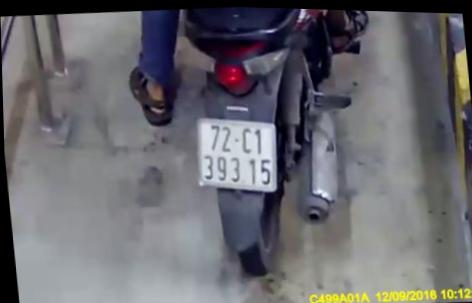LP: (194, 110, 280, 197)
